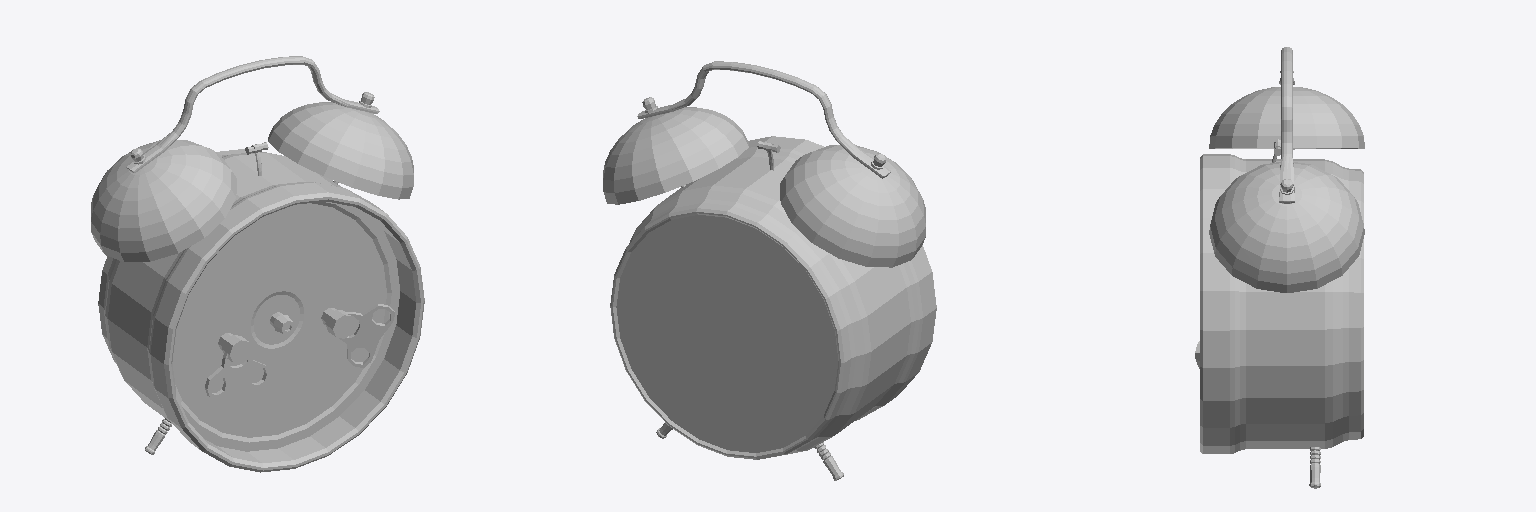
Rendered from clock.obj.
3 renders of one model, left to right at view 1: azimuth 30°, elevation 25°; view 2: azimuth 150°, elevation 25°; view 3: azimuth 270°, elevation 25°, orthographic.
Parts seen in each view (by area): view 1: clock_clock_Sphere.001; view 2: clock_clock_Sphere.001; view 3: clock_clock_Sphere.001.
Part boxes in pixels (bbox=[...]): clock_clock_Sphere.001: bbox=[91, 56, 424, 472]; clock_clock_Sphere.001: bbox=[603, 61, 936, 480]; clock_clock_Sphere.001: bbox=[1195, 47, 1364, 488].
Size of the model in its own units: 2.42 by 2.89 by 1.17.